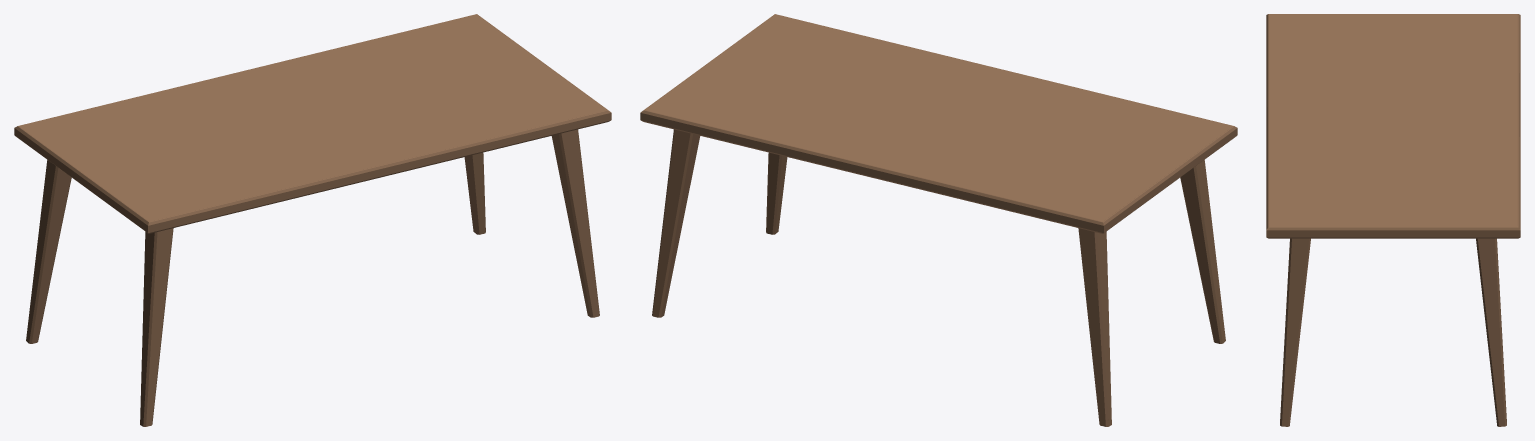
Rendered from Table.obj.
The picture shows the model from 3 angles, left to right: view 1: azimuth 30°, elevation 25°; view 2: azimuth 150°, elevation 25°; view 3: azimuth 270°, elevation 25°; orthographic projection. The views are drawn at different scales.
Parts seen in each view (by area): view 1: Table_Table; view 2: Table_Table; view 3: Table_Table.
Boxes of the visible parts, x1,y1,x2,y2 form: Table_Table: [14, 14, 611, 426]; Table_Table: [640, 14, 1237, 426]; Table_Table: [1266, 14, 1520, 426].
Bounding box in the file's own units: 2 × 0.8682 × 1.
Materials: 1 (1 with a texture image).
